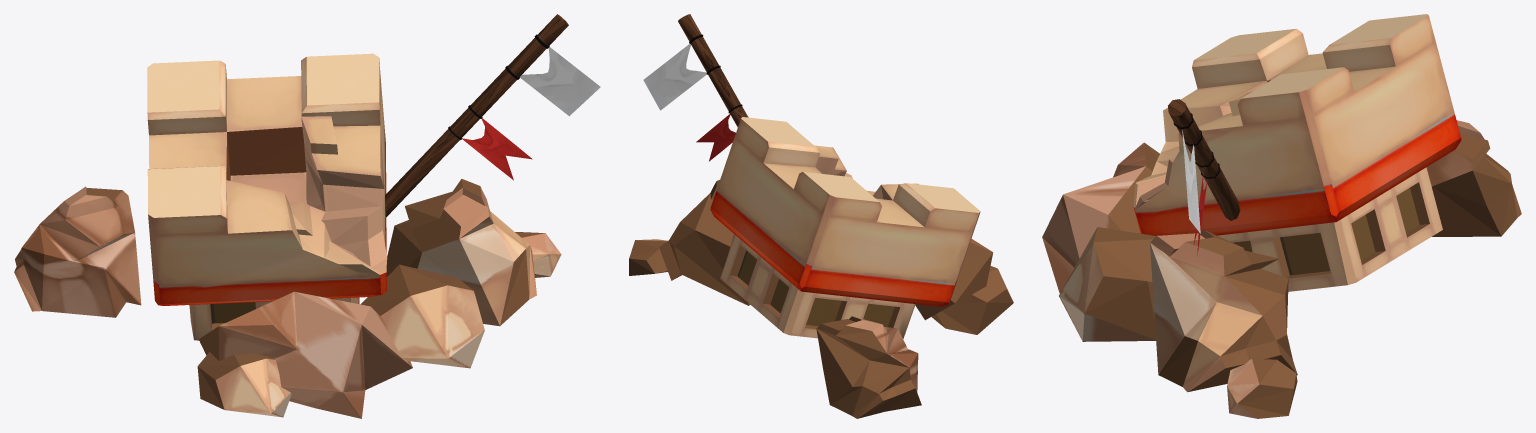
Rendered from BrokenWatchTowerRed.FBX.
The picture shows the model from 3 angles, left to right: view 1: azimuth 30°, elevation 25°; view 2: azimuth 150°, elevation 25°; view 3: azimuth 270°, elevation 25°; orthographic projection. The views are drawn at different scales.
Parts seen in each view (by area): view 1: BrokenWatchTowerRed; view 2: BrokenWatchTowerRed; view 3: BrokenWatchTowerRed.
Boxes of the visible parts, x1,y1,x2,y2 form: BrokenWatchTowerRed: [14, 14, 600, 418]; BrokenWatchTowerRed: [629, 14, 1013, 418]; BrokenWatchTowerRed: [1042, 14, 1521, 418].
Bounding box in the file's own units: 441 × 280 × 370.
1 material, 1 textured.
